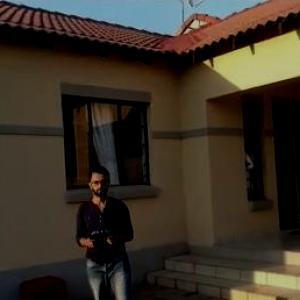follow: (70, 158, 144, 299)
